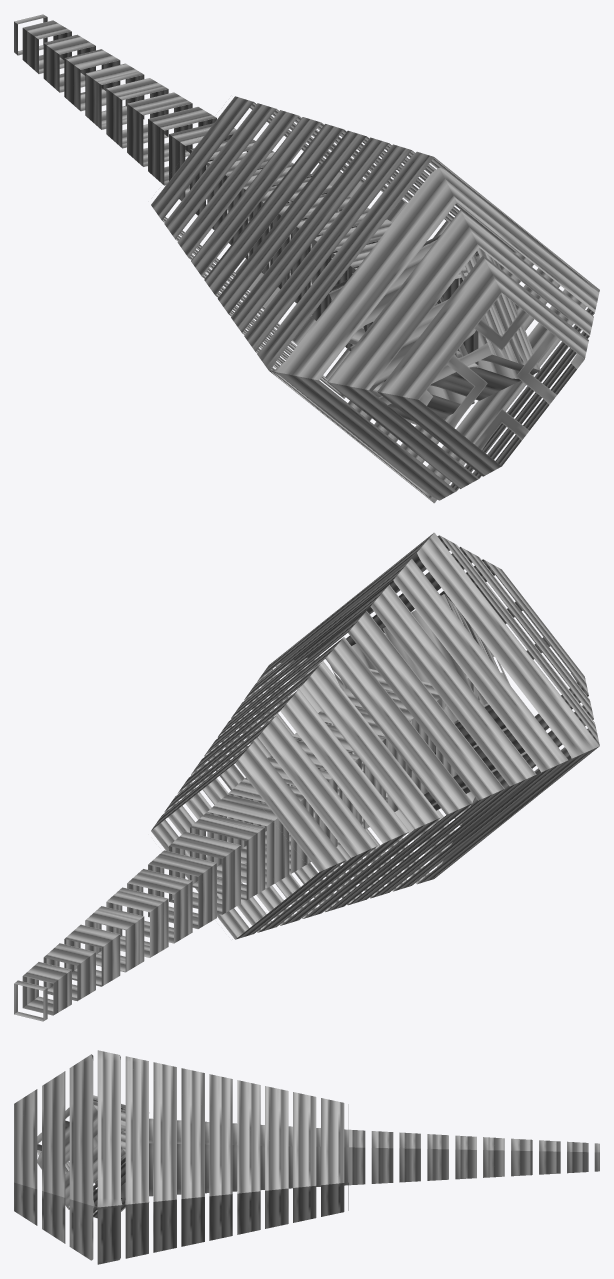
The model's file is spell_projectile_water.obj.
3 views of the same model, one above another, from view 1: azimuth 30°, elevation 25°; view 2: azimuth 150°, elevation 25°; view 3: azimuth 270°, elevation 25° (orthographic). The views are drawn at different scales.
Visible parts, largest first — view 1: SPELL_PROJECTILE_WATER_Cube.012; view 2: SPELL_PROJECTILE_WATER_Cube.012; view 3: SPELL_PROJECTILE_WATER_Cube.012.
Boxes of the visible parts, left/top/right/bottom form: SPELL_PROJECTILE_WATER_Cube.012: left=14, top=14, right=599, bottom=503; SPELL_PROJECTILE_WATER_Cube.012: left=14, top=532, right=599, bottom=1021; SPELL_PROJECTILE_WATER_Cube.012: left=14, top=1050, right=599, bottom=1264.
Size of the model in its own units: 0.3536 by 0.3536 by 0.875.
